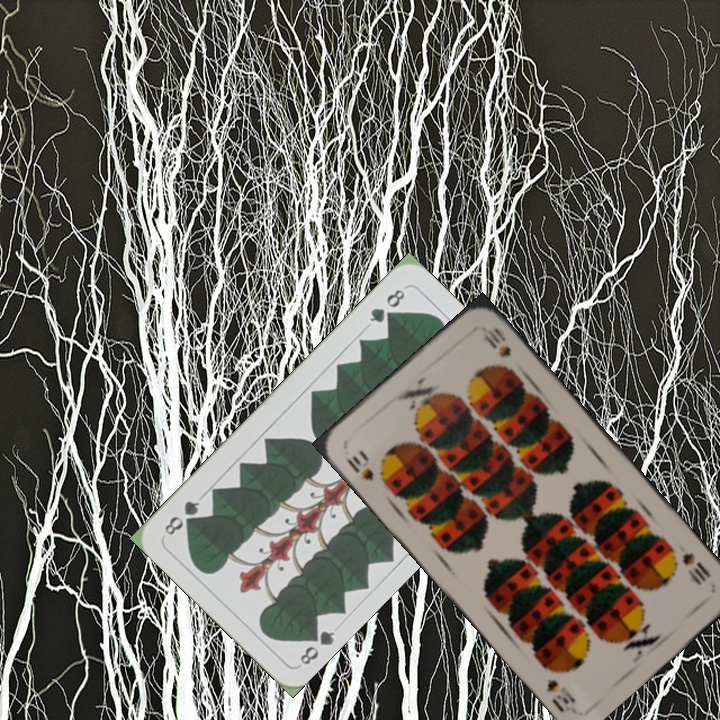G8: (295, 623, 338, 668), (365, 284, 408, 326)
S10: (678, 548, 714, 588), (341, 451, 377, 483)
